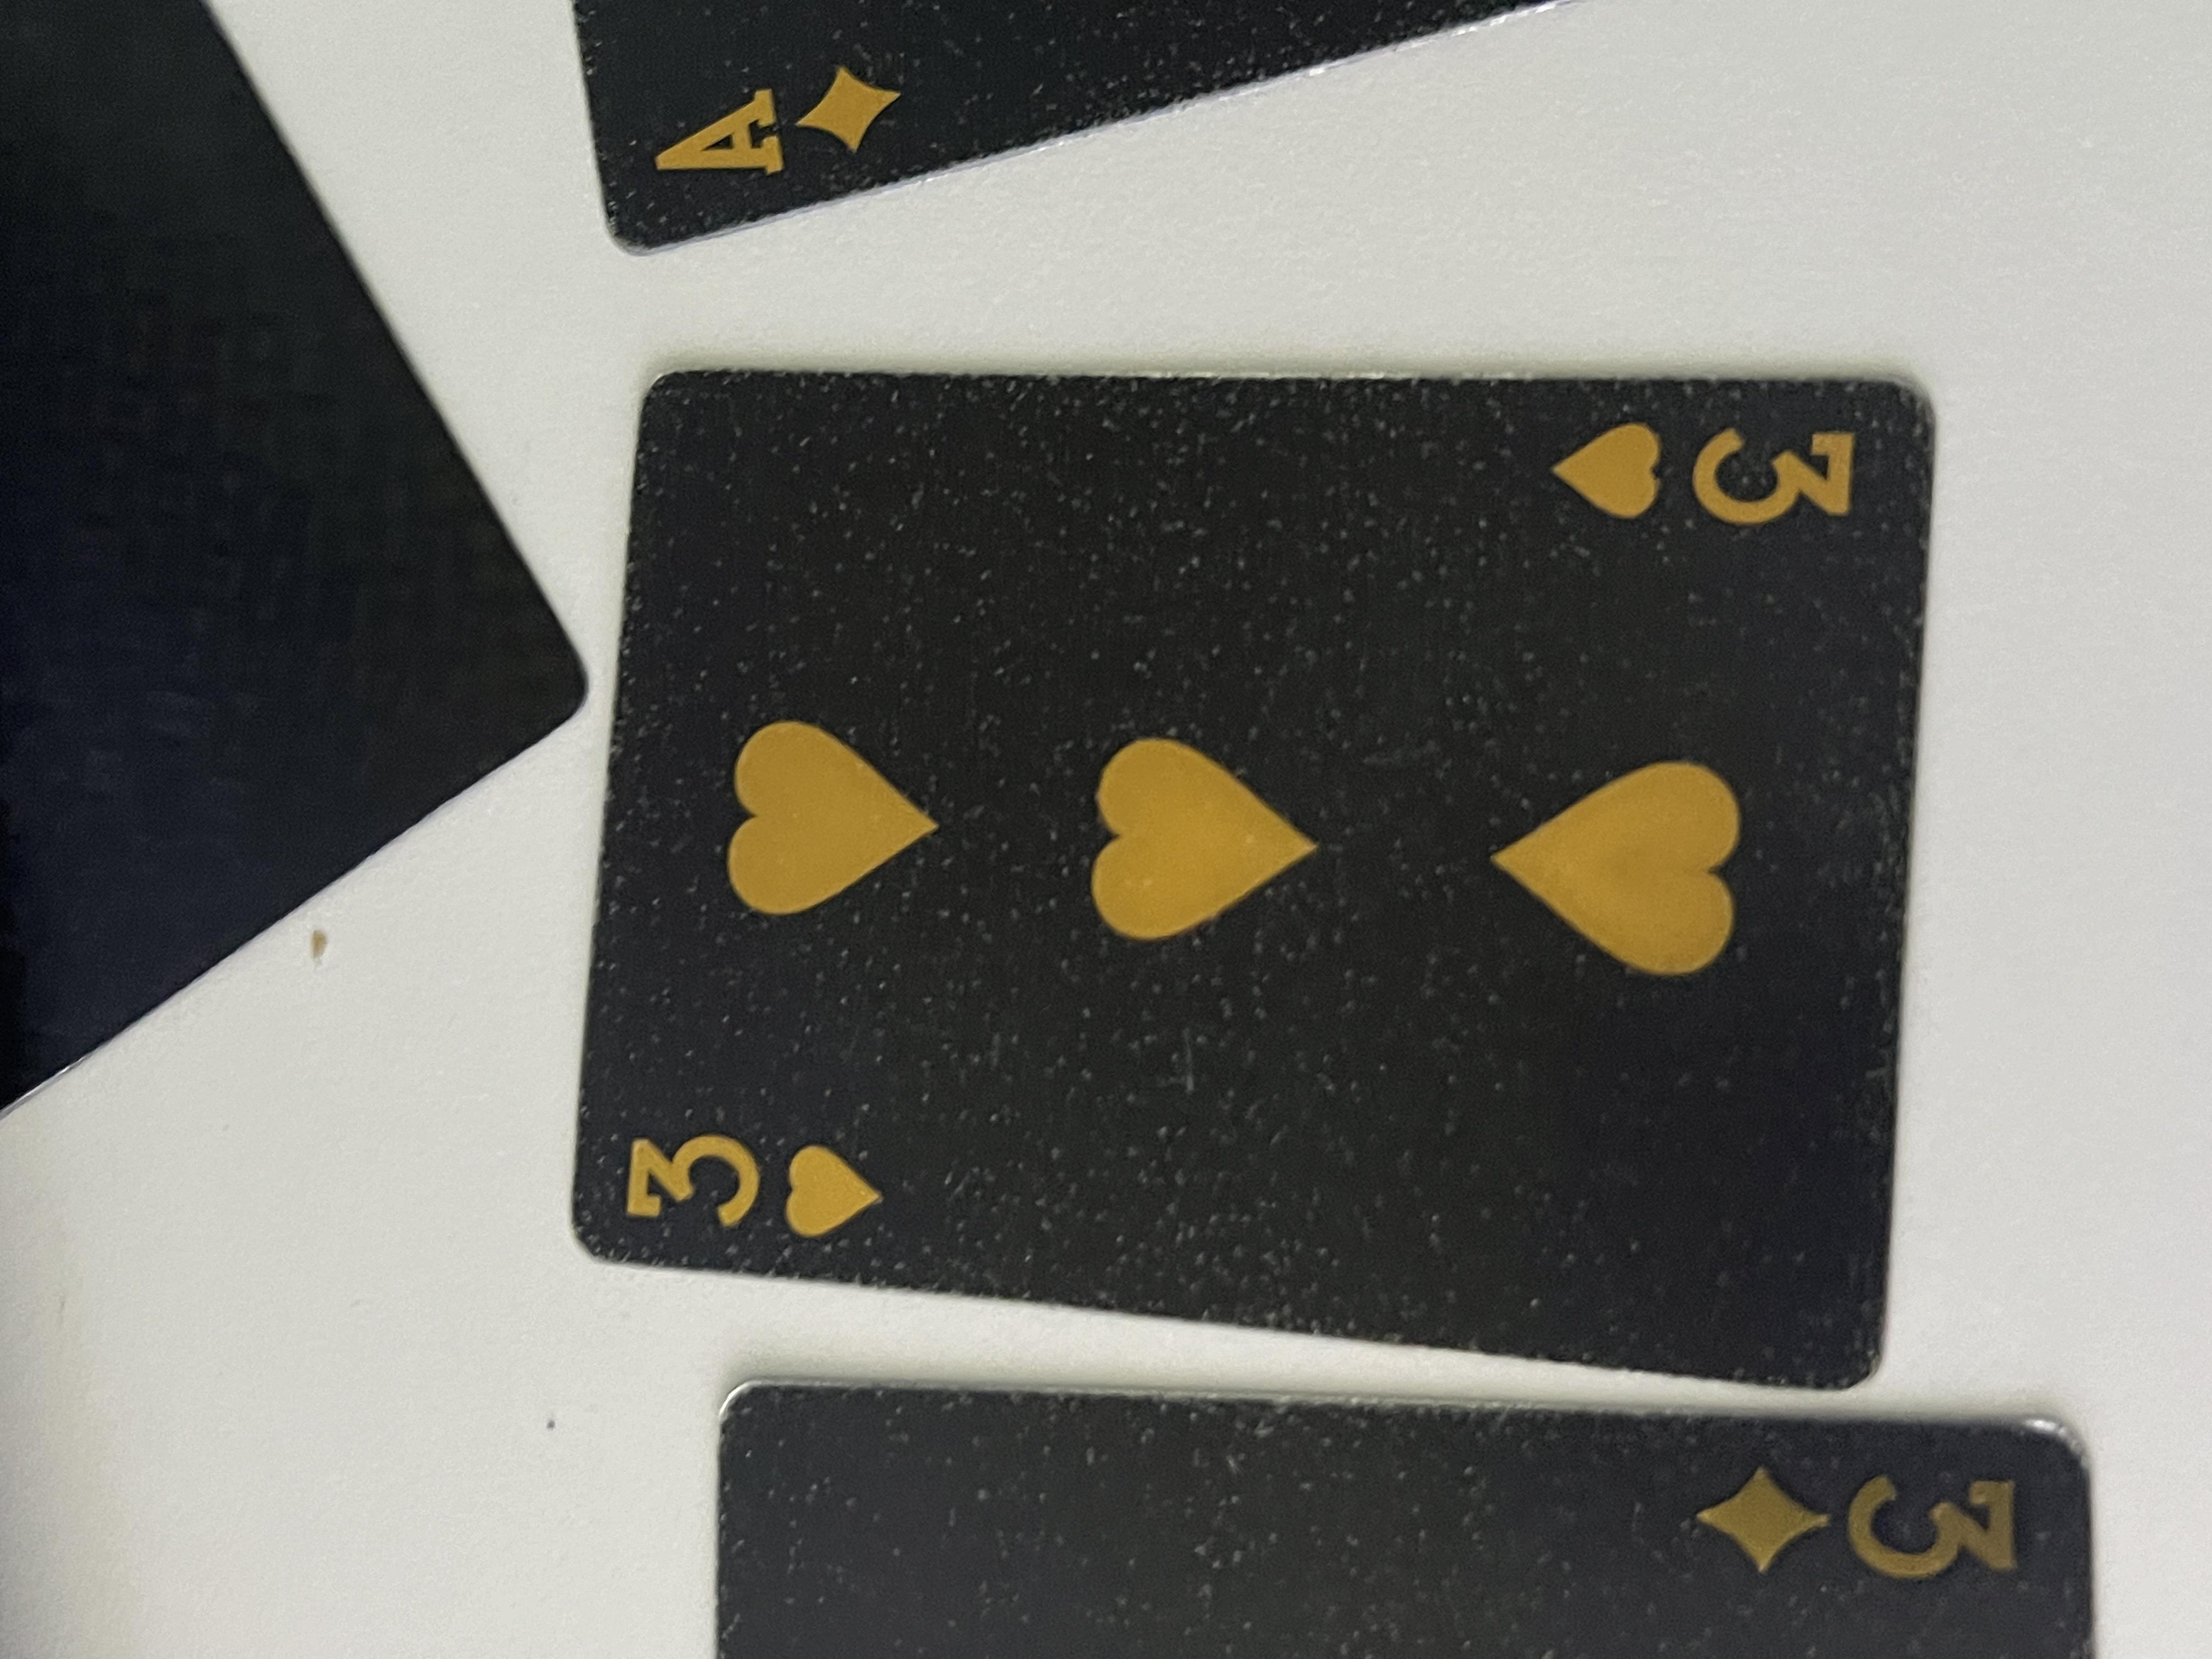3D: (63, 1262, 300, 1549)
3H: (1467, 1148, 1672, 1432), (552, 443, 732, 692)
AD: (1942, 465, 2155, 694)
